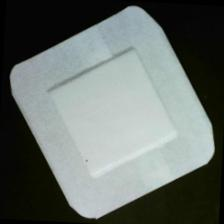Dressing: (2, 1, 222, 224)
F_Body: (78, 153, 95, 170)
